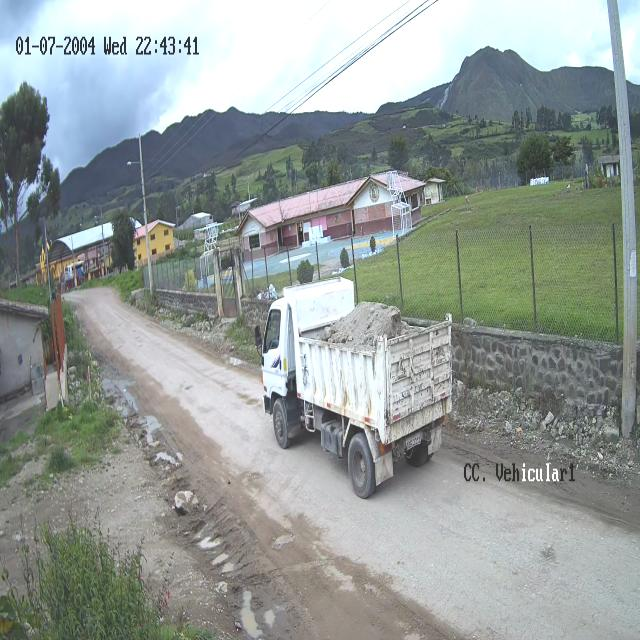TRUCK: (261, 279, 454, 500)
